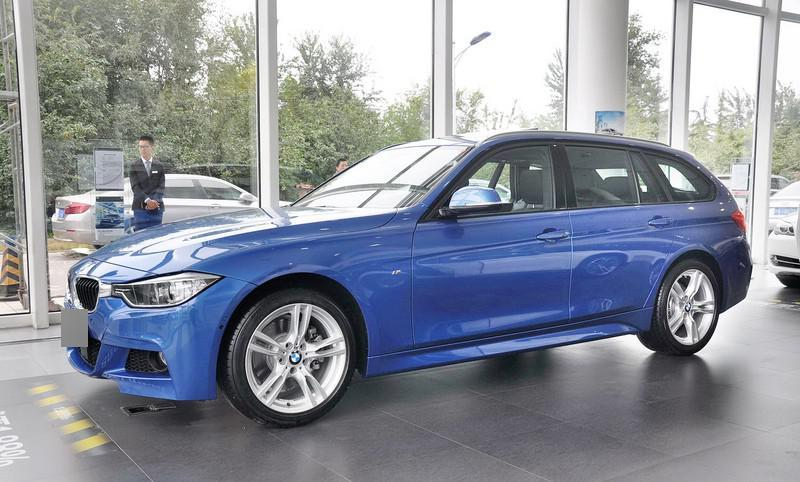Wagon: (62, 128, 755, 429)
